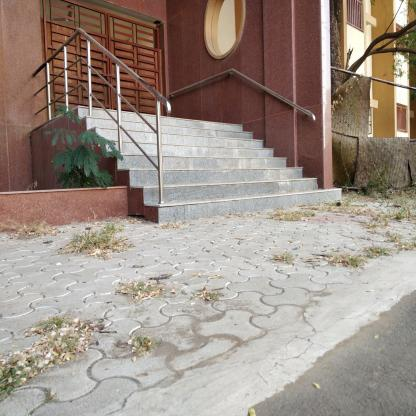stairs: (166, 121, 243, 225)
